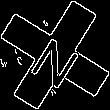N_NE: (24, 23, 86, 87)
